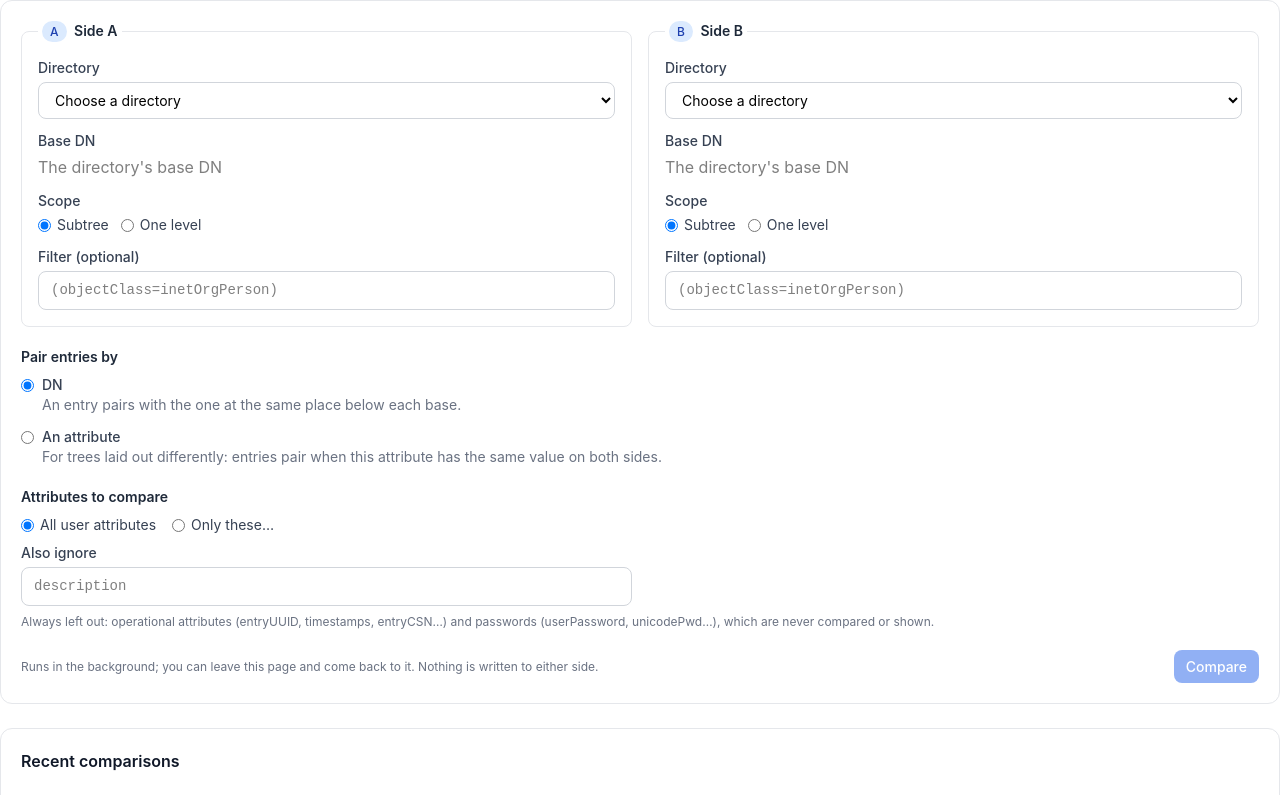
Test: DirectoryDiffSetup › shows how DNs map when the bases differ
Type "ou=people,dc=a" into the field with class "dn-picker" below "Side A" at {"x": 162, "y": 167}, box x1=38 y1=155 x2=286 y2=179
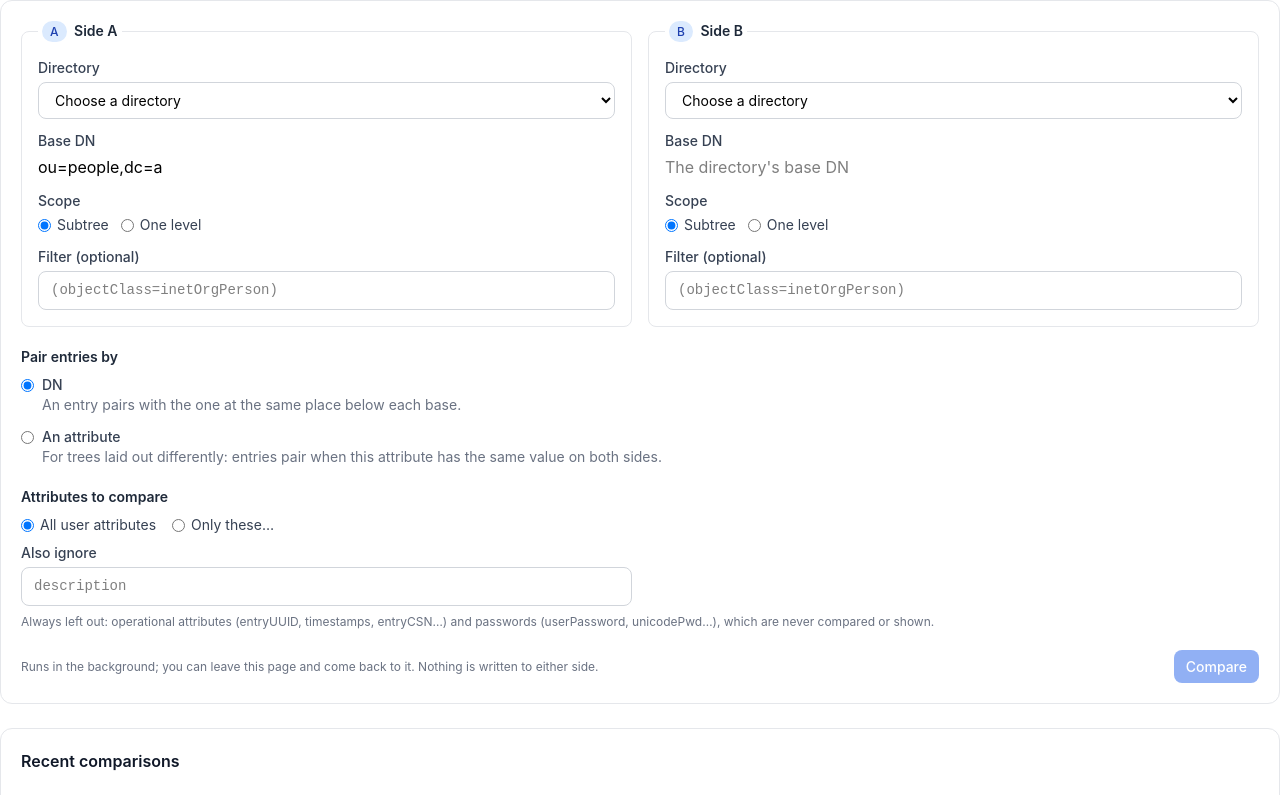
Type "ou=Users,dc=b" into the field with class "dn-picker" showing "The directory's base DN" at {"x": 789, "y": 167}, box x1=665 y1=155 x2=913 y2=179
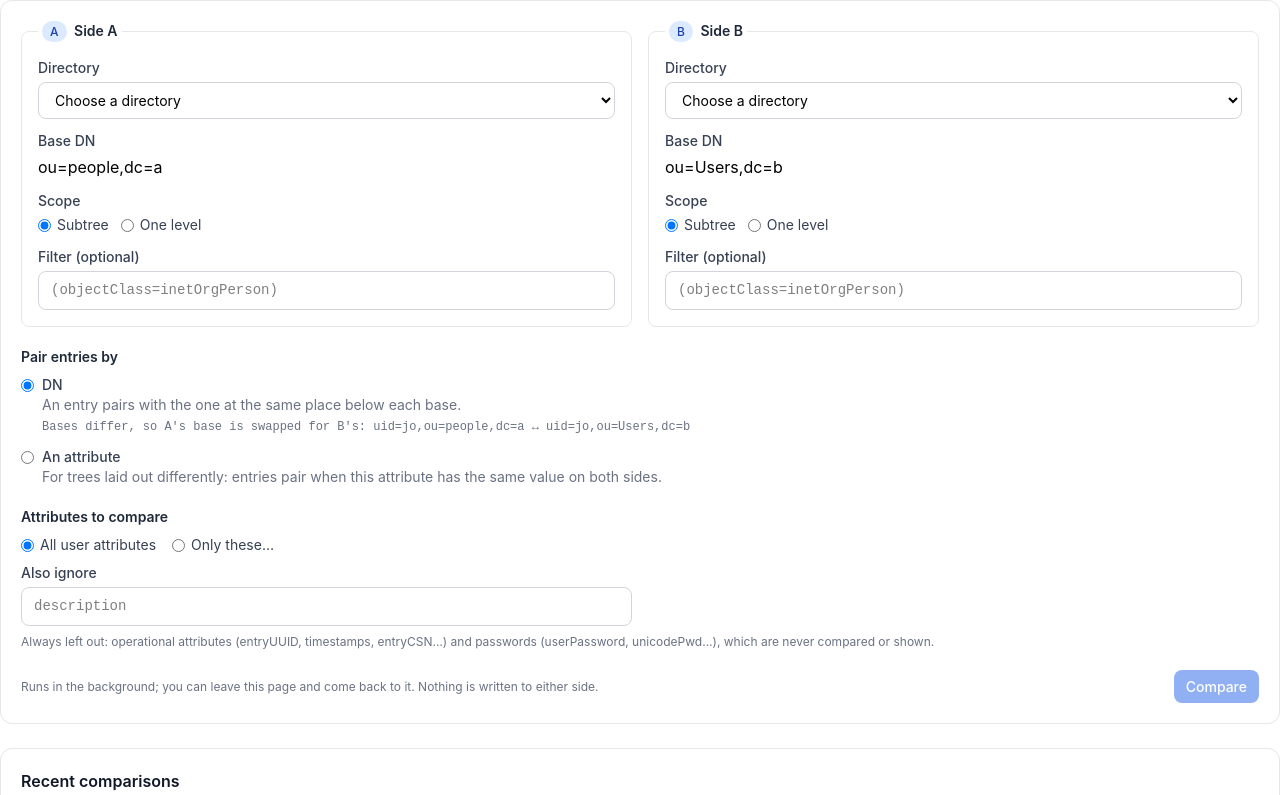
Now the text with test id "rebase-example" shows "uid=jo,ou=people,dc=a ↔ uid=jo,ou=Users,dc=b", box x1=42 y1=420 x2=690 y2=434
